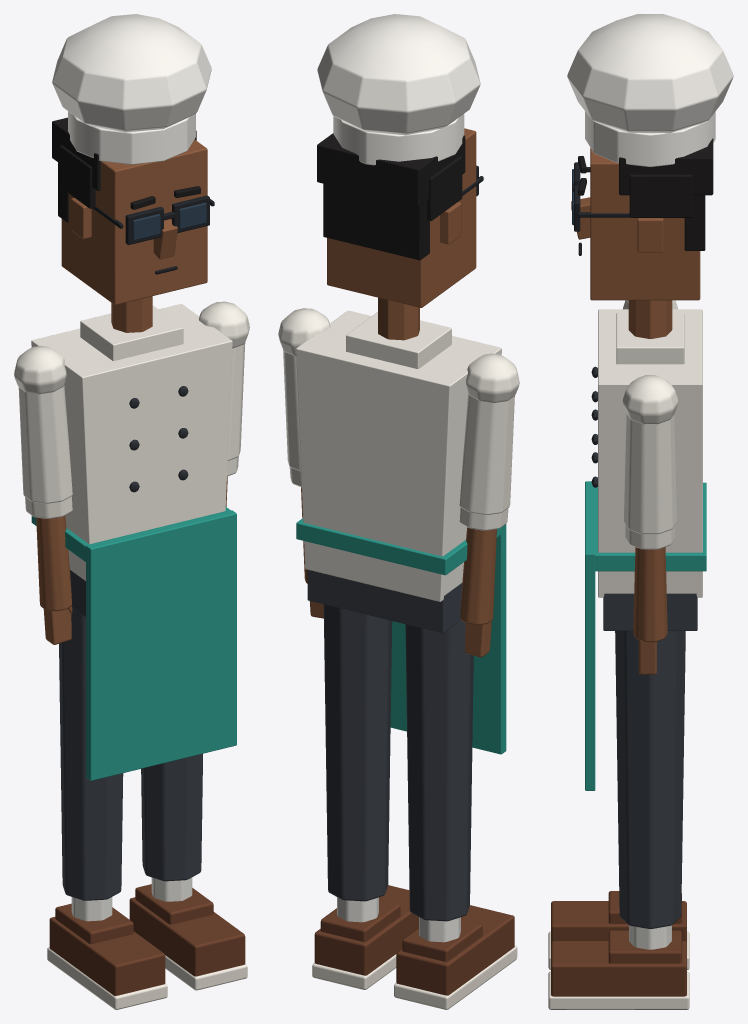
The model's file is Chef_Blind.glb.
The picture shows the model from 3 angles, left to right: view 1: azimuth 30°, elevation 25°; view 2: azimuth 150°, elevation 25°; view 3: azimuth 270°, elevation 25°; orthographic projection. The views are drawn at different scales.
Visible parts, largest first — view 1: Chef_Blind_Torso, Chef_Blind_Head, Chef_Blind_LegL, Chef_Blind_LegR, Chef_Blind_ArmL, Chef_Blind_ForearmL, Chef_Blind_ArmR; view 2: Chef_Blind_Torso, Chef_Blind_Head, Chef_Blind_LegL, Chef_Blind_LegR, Chef_Blind_ArmL, Chef_Blind_ForearmL, Chef_Blind_ArmR; view 3: Chef_Blind_Head, Chef_Blind_LegR, Chef_Blind_Torso, Chef_Blind_ArmR, Chef_Blind_ForearmR, Chef_Blind_LegL.
Boxes of the visible parts, bbox=[...] form: Chef_Blind_Torso: bbox=[31, 296, 236, 780]; Chef_Blind_Head: bbox=[52, 14, 214, 304]; Chef_Blind_LegL: bbox=[47, 575, 167, 1009]; Chef_Blind_LegR: bbox=[129, 753, 247, 990]; Chef_Blind_ArmL: bbox=[14, 345, 72, 503]; Chef_Blind_ForearmL: bbox=[25, 496, 72, 644]; Chef_Blind_ArmR: bbox=[199, 301, 249, 460]; Chef_Blind_Torso: bbox=[296, 297, 506, 754]; Chef_Blind_Head: bbox=[317, 14, 483, 307]; Chef_Blind_LegL: bbox=[394, 588, 517, 1009]; Chef_Blind_LegR: bbox=[312, 604, 418, 989]; Chef_Blind_ArmL: bbox=[459, 353, 519, 514]; Chef_Blind_ForearmL: bbox=[459, 507, 508, 657]; Chef_Blind_ArmR: bbox=[278, 308, 330, 471]; Chef_Blind_Head: bbox=[567, 14, 733, 300]; Chef_Blind_LegR: bbox=[548, 631, 689, 1009]; Chef_Blind_Torso: bbox=[585, 300, 706, 790]; Chef_Blind_ArmR: bbox=[622, 375, 678, 534]; Chef_Blind_ForearmR: bbox=[625, 524, 675, 674]; Chef_Blind_LegL: bbox=[548, 891, 689, 969].
Size of the model in its own units: 0.5128 by 2.01 by 0.3538.
